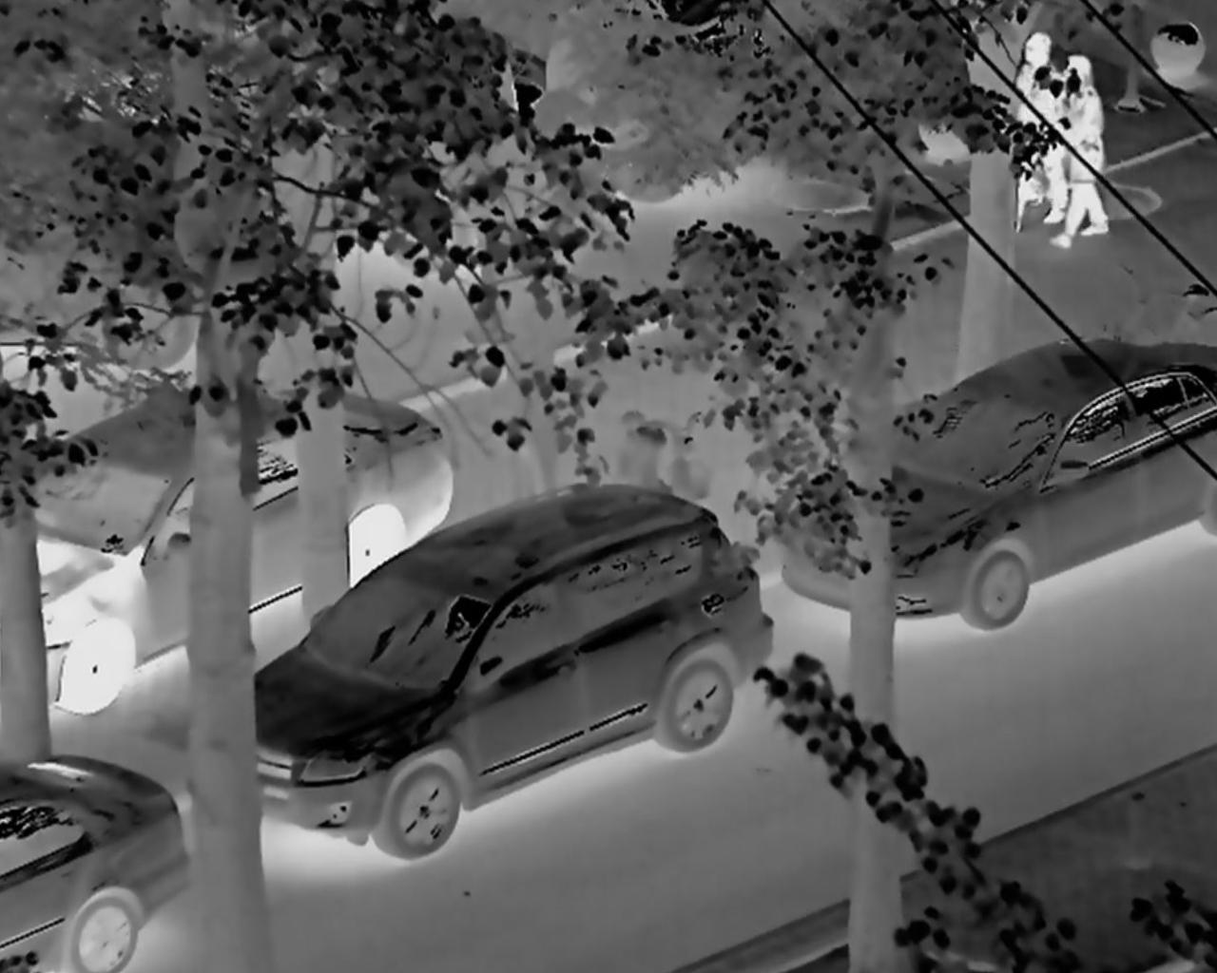person: (1054, 49, 1115, 258), (1017, 28, 1065, 238)
